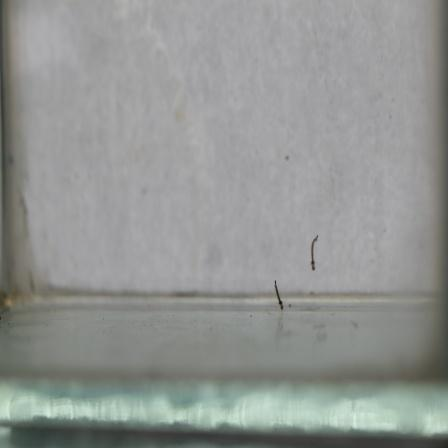Jentik-Nyamuk: (306, 233, 323, 273), (271, 278, 287, 312)
